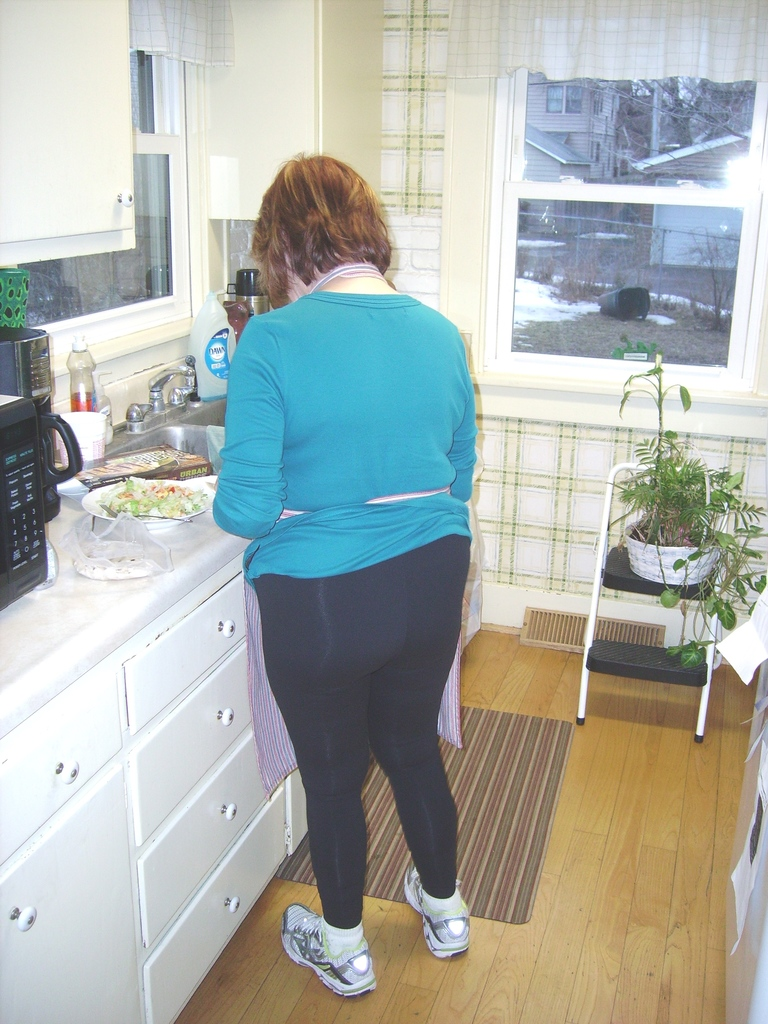Cabinetry: (17, 412, 304, 982)
